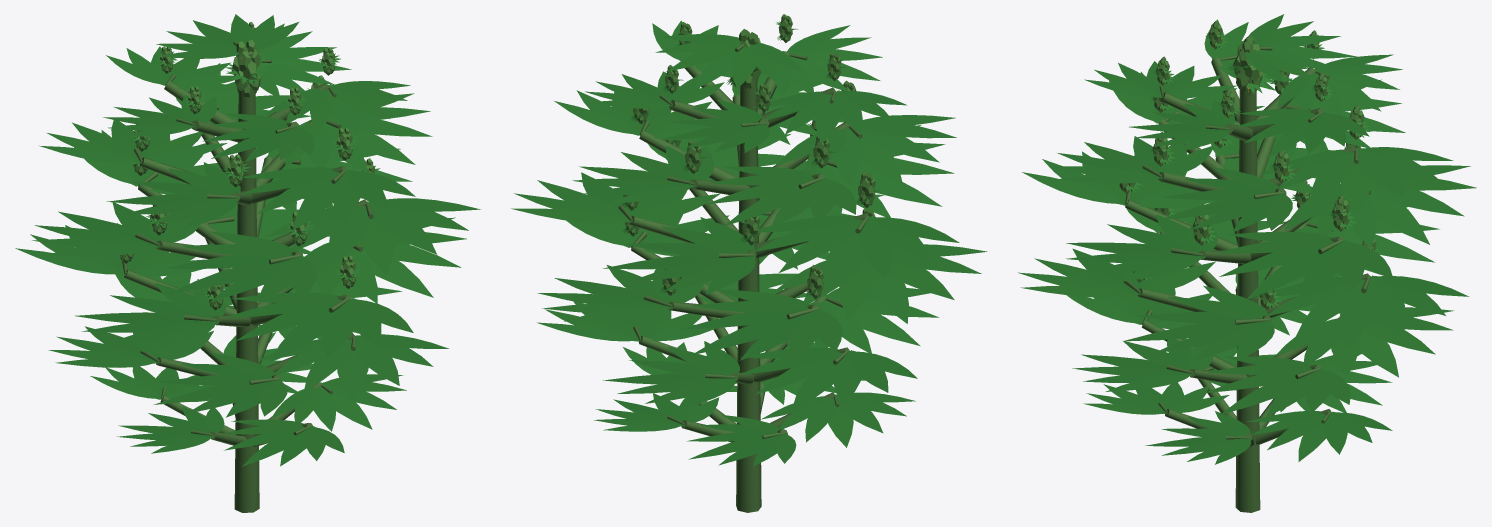
File: plant-flower.glb
3 renders of one model, left to right at view 1: azimuth 30°, elevation 25°; view 2: azimuth 150°, elevation 25°; view 3: azimuth 270°, elevation 25°, orthographic. The views are drawn at different scales.
Parts seen in each view (by area): view 1: LeafBlade (×90), Branch (×4); view 2: LeafBlade (×96), Branch (×5); view 3: LeafBlade (×93), Branch (×5).
Part boxes in pixels (box(x1,y1,x2,y2)): LeafBlade (×90): box(15, 47, 480, 450); Branch (×4): box(124, 52, 259, 512); LeafBlade (×96): box(511, 25, 987, 447); Branch (×5): box(631, 41, 761, 512); LeafBlade (×93): box(1018, 35, 1476, 461); Branch (×5): box(1125, 47, 1260, 512).
Size of the model in its own units: 0.9153 by 1 by 0.8914.
